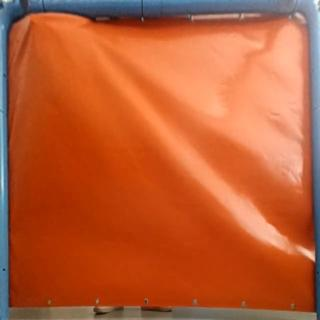Hit-hRxx: (27, 16, 37, 24)
